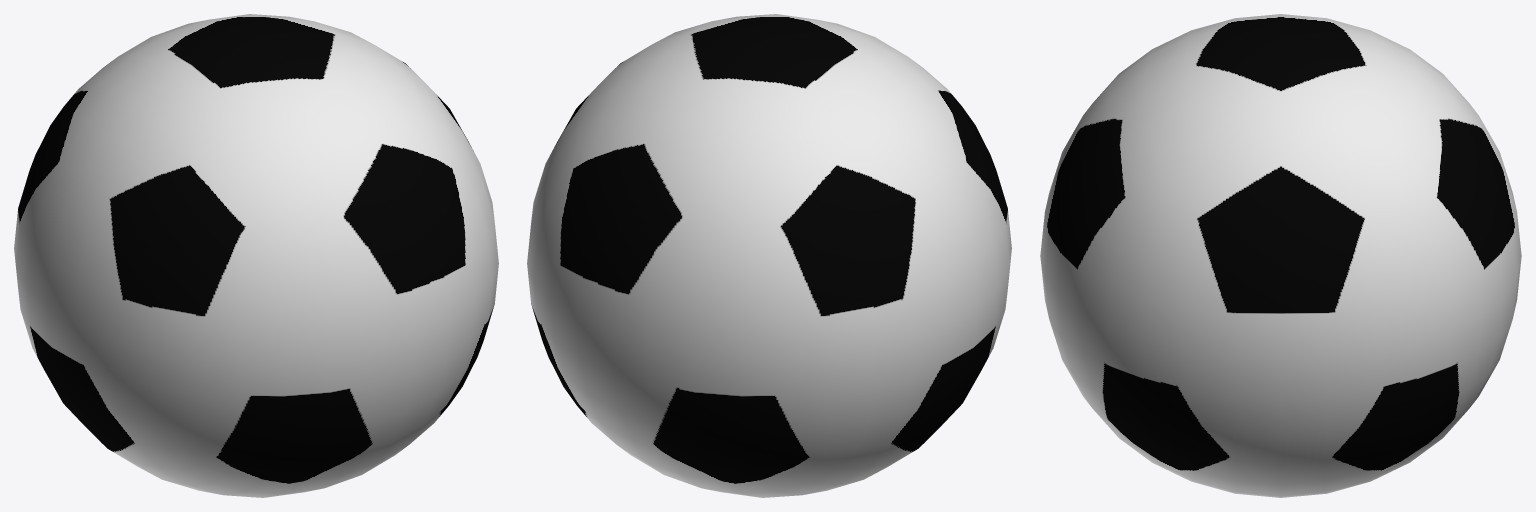
File: LowPolyBall.fbx
3 renders of one model, left to right at view 1: azimuth 30°, elevation 25°; view 2: azimuth 150°, elevation 25°; view 3: azimuth 270°, elevation 25°, orthographic.
Parts seen in each view (by area): view 1: Ball_LowPoly; view 2: Ball_LowPoly; view 3: Ball_LowPoly.
Part boxes in pixels (x1,y1,x2,y2): Ball_LowPoly: (14, 14, 498, 497); Ball_LowPoly: (527, 14, 1011, 497); Ball_LowPoly: (1040, 14, 1521, 497).
Bounding box in the file's own units: 22 × 22 × 22.
